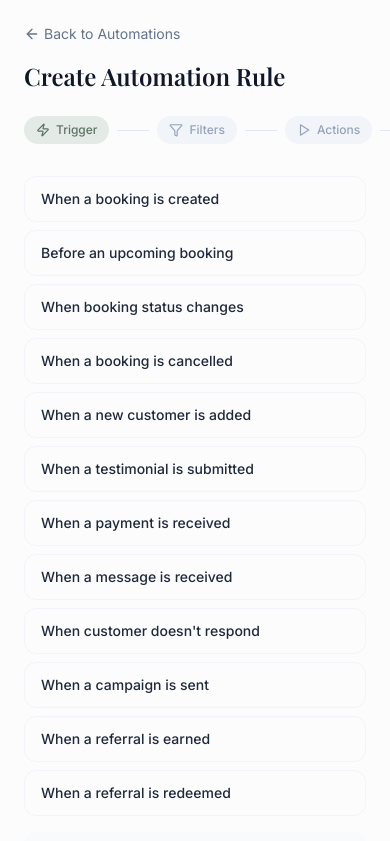
Scenario: NewAutomationPage › advances to filter step and shows filter preview
Step 1. Click the button "When a booking is created" → (195, 199), box left=24, top=176, right=366, bottom=222
(page scrolled)
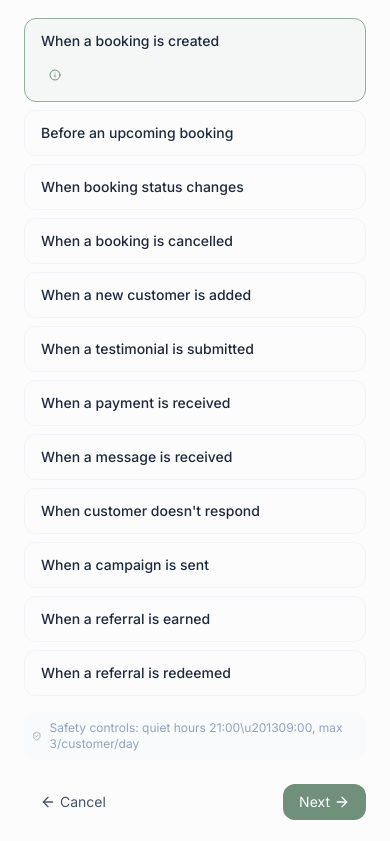
Step 2. Click the button "Next" → (325, 802), box left=283, top=784, right=366, bottom=820
(page scrolled)
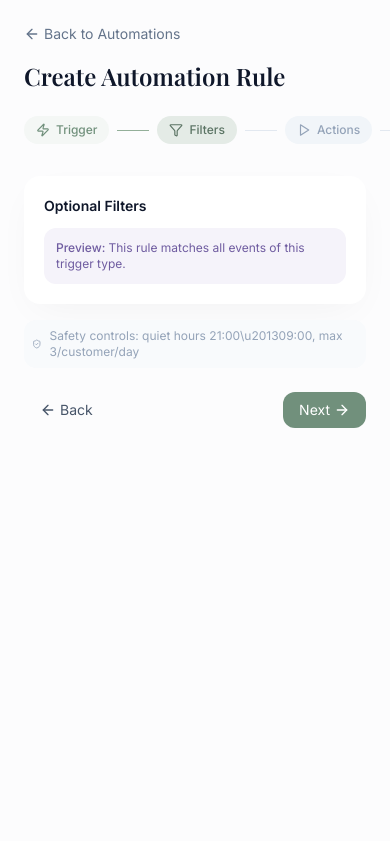
Now the text "Preview: This rule matches all events of this trigger type." is shown, box left=44, top=228, right=346, bottom=284
